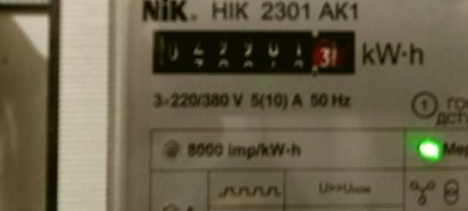0: (264, 32, 278, 57), (163, 38, 179, 59)
1: (289, 33, 302, 56)
2: (188, 35, 204, 55)
3: (316, 44, 329, 66)
9: (239, 34, 253, 56), (214, 34, 226, 56)
screen: (137, 18, 364, 83)
